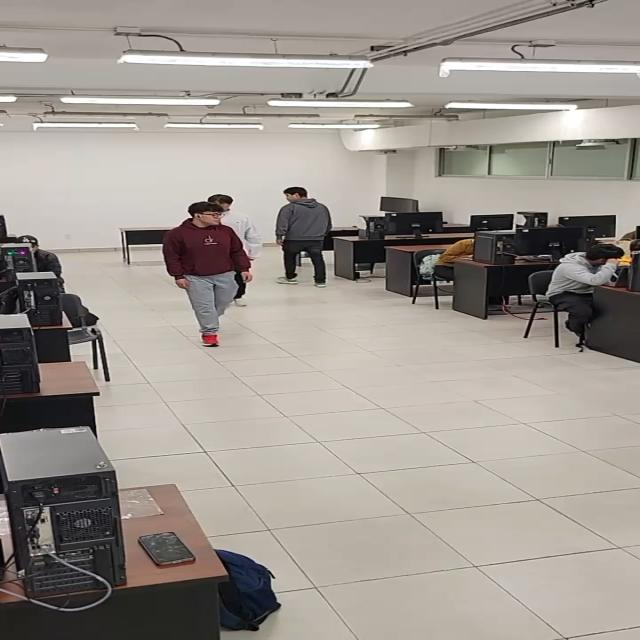Persona: (163, 202, 254, 347), (275, 186, 333, 288)
